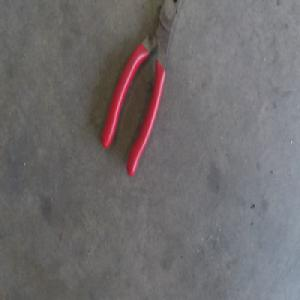Pliers: (101, 0, 182, 178)
